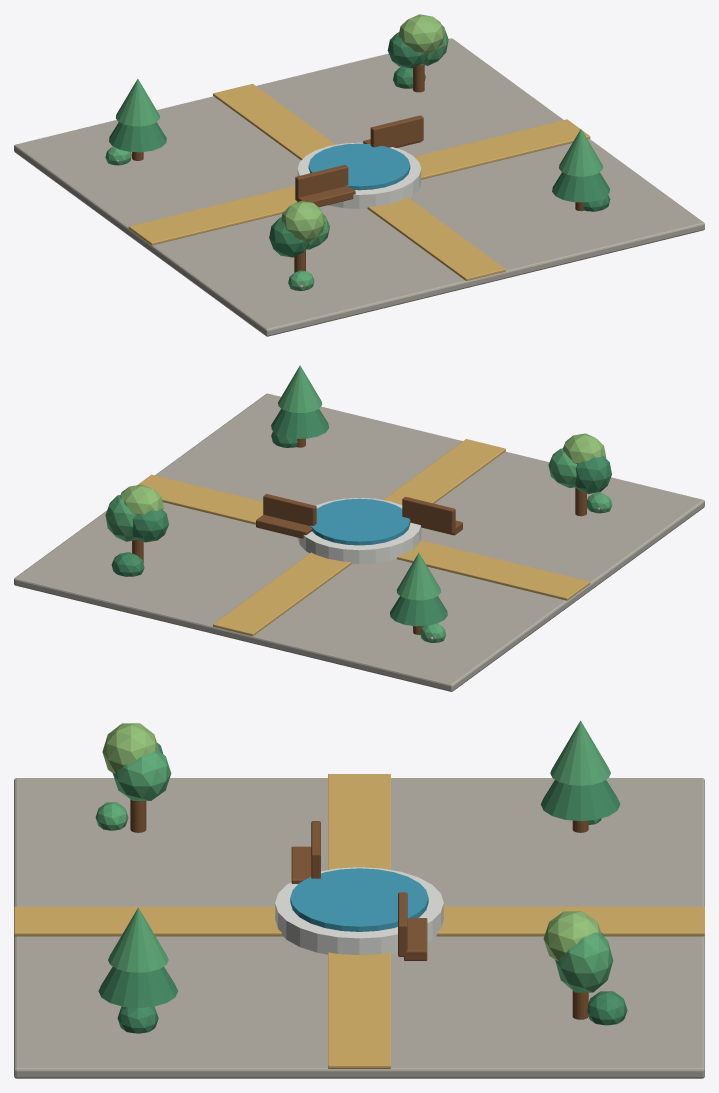
The model's file is PARK_3x3_003.glb.
The picture shows the model from 3 angles, top to bottom: view 1: azimuth 30°, elevation 25°; view 2: azimuth 150°, elevation 25°; view 3: azimuth 270°, elevation 25°; orthographic projection. The views are drawn at different scales.
Visible parts, largest first — view 1: PARK_3x3_003_Visual; view 2: PARK_3x3_003_Visual; view 3: PARK_3x3_003_Visual.
Part boxes in pixels (<box>): PARK_3x3_003_Visual: <box>14,14,704,336</box>; PARK_3x3_003_Visual: <box>14,365,704,691</box>; PARK_3x3_003_Visual: <box>14,720,704,1078</box>.
Size of what is drawn, in the model's own units: 5.9 by 1.13 by 5.9.
